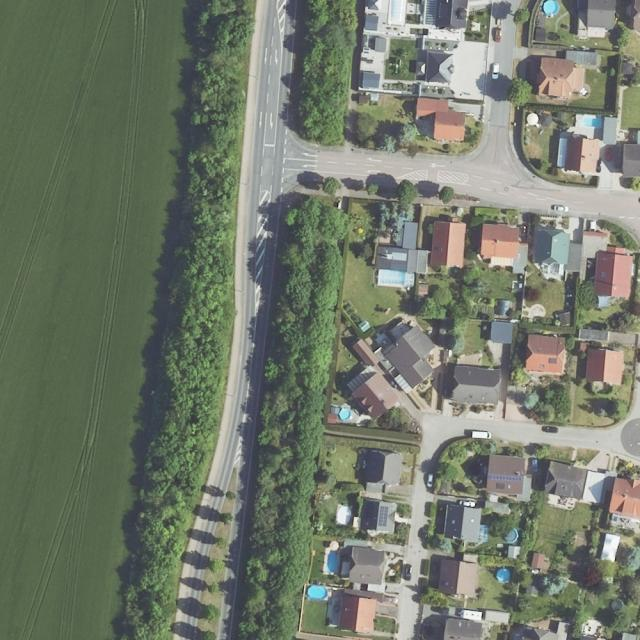PV: (489, 475, 521, 482), (378, 507, 388, 526), (365, 503, 375, 518)
ST: (496, 482, 505, 489), (548, 358, 556, 364)
